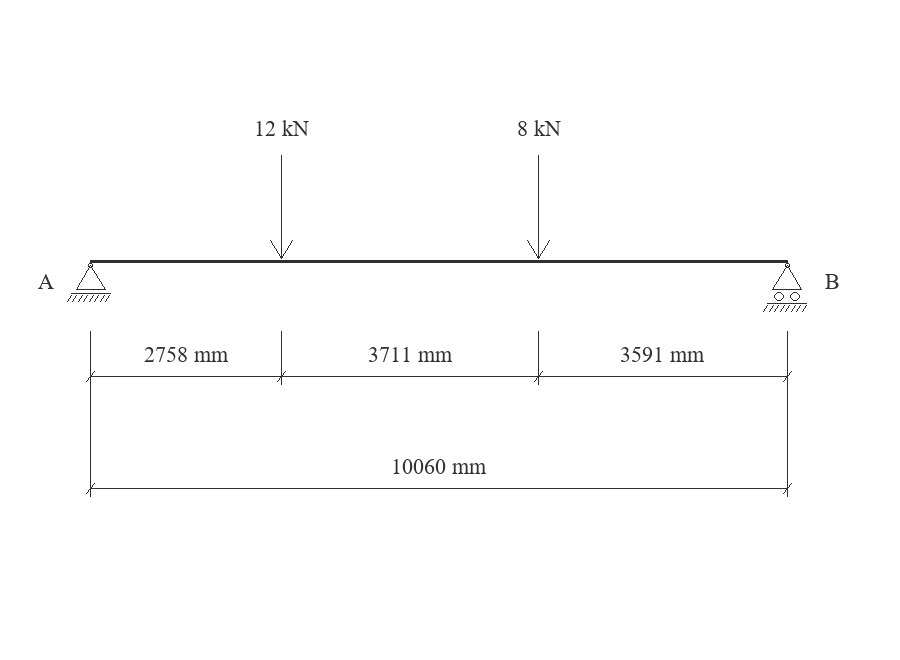pin_support: (67, 263, 111, 302)
point_load: (270, 155, 293, 259), (527, 155, 550, 259)
roller_support: (763, 263, 807, 312)
